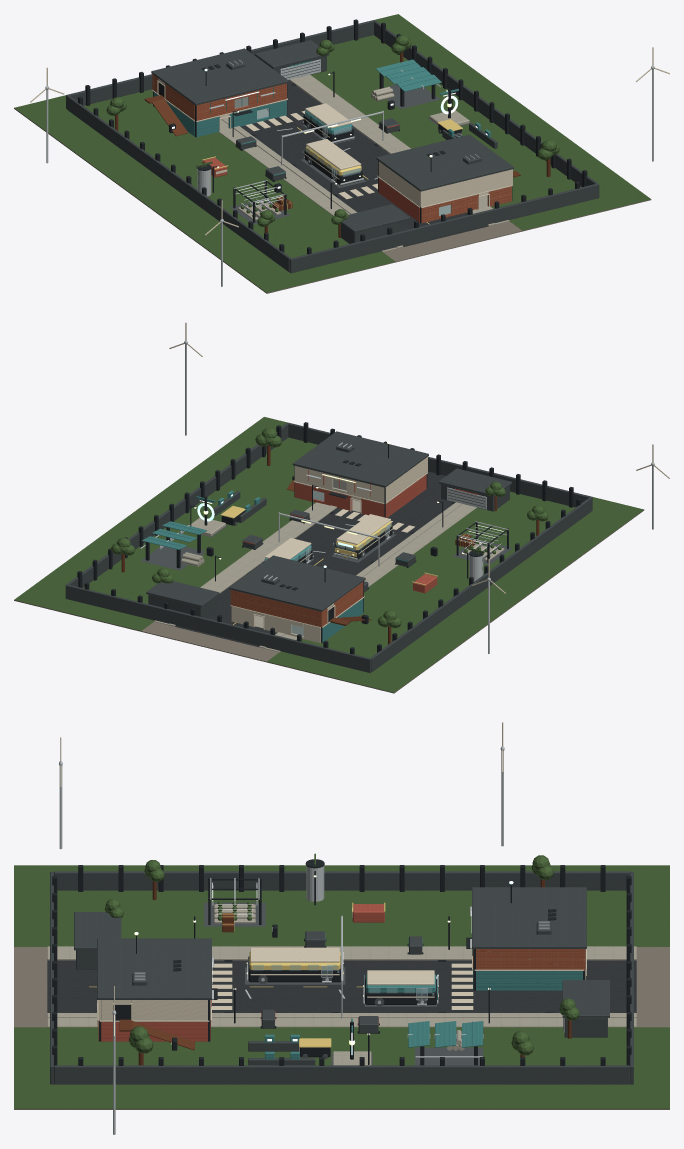
Rendered from atomic-acres-blender-arena.glb.
3 views of the same model, one above another, from view 1: azimuth 30°, elevation 25°; view 2: azimuth 150°, elevation 25°; view 3: azimuth 270°, elevation 25° (orthographic). The views are drawn at different scales.
Parts seen in each view (by area): view 1: BLD_BATCH_MAT_ground_olive, BLD_BATCH_MAT_concrete_dark, BLD_BATCH_MAT_roof_shingles, BLD_BATCH_MAT_gunmetal, BLD_BATCH_MAT_concrete_weathered, BLD_BATCH_MAT_asphalt_charcoal, BLD_BATCH_MAT_aqua_oxidized, BLD_BATCH_MAT_trim_bone, BLD_BATCH_MAT_earth_edge, BLD_BATCH_MAT_brushed_alloy, BLD_BATCH_MAT_coral_upper_plaster, BLD_BATCH_MAT_aqua_upper_brick (+7 smaller); view 2: BLD_BATCH_MAT_ground_olive, BLD_BATCH_MAT_concrete_dark, BLD_BATCH_MAT_roof_shingles, BLD_BATCH_MAT_concrete_weathered, BLD_BATCH_MAT_gunmetal, BLD_BATCH_MAT_asphalt_charcoal, BLD_BATCH_MAT_trim_bone, BLD_BATCH_MAT_earth_edge, BLD_BATCH_MAT_brushed_alloy, BLD_BATCH_MAT_coral_oxide, BLD_BATCH_MAT_aqua_upper_brick, BLD_BATCH_MAT_coral_upper_plaster (+6 smaller); view 3: BLD_BATCH_MAT_ground_olive, BLD_BATCH_MAT_concrete_dark, BLD_BATCH_MAT_roof_shingles, BLD_BATCH_MAT_asphalt_charcoal, BLD_BATCH_MAT_concrete_weathered, BLD_BATCH_MAT_gunmetal, BLD_BATCH_MAT_earth_edge, BLD_BATCH_MAT_trim_bone, BLD_BATCH_MAT_aqua_oxidized, BLD_BATCH_MAT_brushed_alloy, BLD_BATCH_MAT_foliage_military, BLD_BATCH_MAT_rubber (+6 smaller).
Part boxes in pixels (<box>): BLD_BATCH_MAT_ground_olive: <box>14,14,650,292</box>; BLD_BATCH_MAT_concrete_dark: <box>66,20,599,273</box>; BLD_BATCH_MAT_roof_shingles: <box>151,40,513,232</box>; BLD_BATCH_MAT_gunmetal: <box>78,19,587,254</box>; BLD_BATCH_MAT_concrete_weathered: <box>218,75,509,251</box>; BLD_BATCH_MAT_asphalt_charcoal: <box>240,80,488,246</box>; BLD_BATCH_MAT_aqua_oxidized: <box>153,59,490,175</box>; BLD_BATCH_MAT_trim_bone: <box>30,47,669,235</box>; BLD_BATCH_MAT_earth_edge: <box>14,81,651,293</box>; BLD_BATCH_MAT_brushed_alloy: <box>45,59,654,286</box>; BLD_BATCH_MAT_coral_upper_plaster: <box>378,161,512,207</box>; BLD_BATCH_MAT_aqua_upper_brick: <box>152,74,286,120</box>; BLD_BATCH_MAT_ground_olive: <box>14,417,644,692</box>; BLD_BATCH_MAT_concrete_dark: <box>65,422,592,672</box>; BLD_BATCH_MAT_roof_shingles: <box>146,431,511,611</box>; BLD_BATCH_MAT_concrete_weathered: <box>154,490,504,652</box>; BLD_BATCH_MAT_gunmetal: <box>77,422,580,654</box>; BLD_BATCH_MAT_asphalt_charcoal: <box>175,471,452,647</box>; BLD_BATCH_MAT_trim_bone: <box>169,322,669,629</box>; BLD_BATCH_MAT_earth_edge: <box>14,508,644,693</box>; BLD_BATCH_MAT_brushed_alloy: <box>140,341,654,653</box>; BLD_BATCH_MAT_coral_oxide: <box>242,469,478,593</box>; BLD_BATCH_MAT_aqua_upper_brick: <box>230,582,363,627</box>; BLD_BATCH_MAT_coral_upper_plaster: <box>294,457,427,502</box>; BLD_BATCH_MAT_ground_olive: <box>14,865,669,1108</box>; BLD_BATCH_MAT_concrete_dark: <box>50,871,633,1084</box>; BLD_BATCH_MAT_roof_shingles: <box>74,887,609,1017</box>; BLD_BATCH_MAT_asphalt_charcoal: <box>47,960,636,1012</box>; BLD_BATCH_MAT_concrete_weathered: <box>47,904,636,1065</box>; BLD_BATCH_MAT_gunmetal: <box>52,859,631,1065</box>; BLD_BATCH_MAT_earth_edge: <box>14,947,669,1109</box>; BLD_BATCH_MAT_trim_bone: <box>60,722,586,1037</box>; BLD_BATCH_MAT_aqua_oxidized: <box>265,932,582,1059</box>; BLD_BATCH_MAT_brushed_alloy: <box>59,746,564,1134</box>; BLD_BATCH_MAT_foliage_military: <box>104,853,579,1055</box>; BLD_BATCH_MAT_rubber: <box>204,902,483,1065</box>.
Bounding box in the file's own units: 110 × 24.59 × 98.
27 materials, 19 textured.
